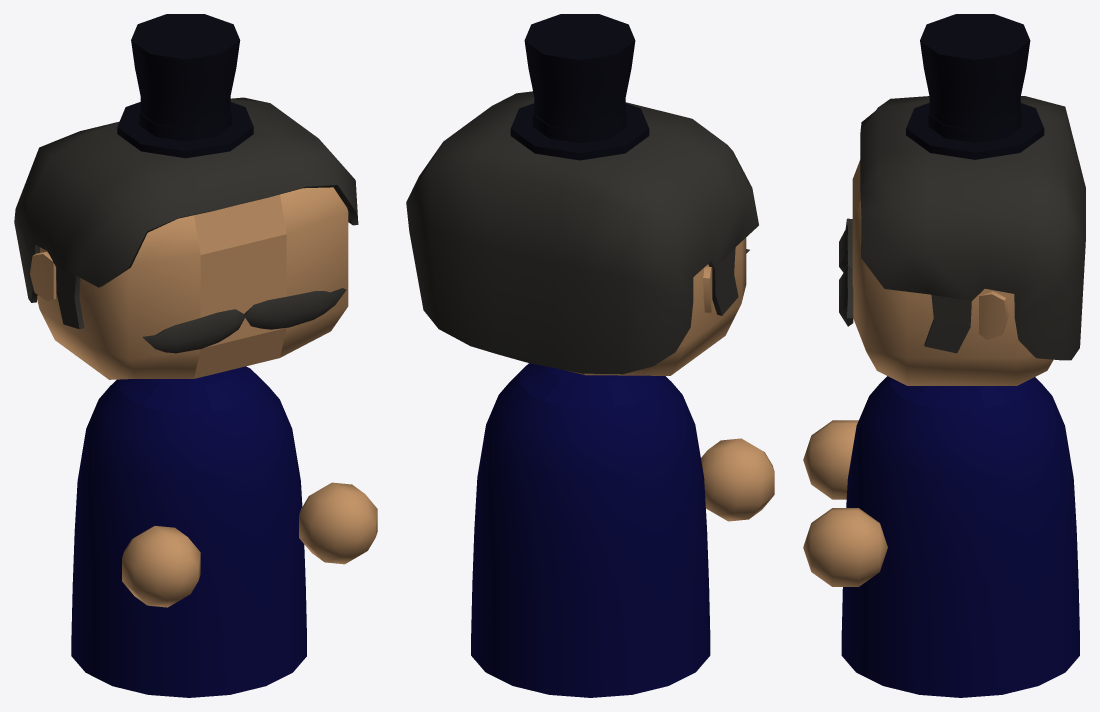
The model's file is Viejo_low.fbx.
3 views of the same model, side by side, from view 1: azimuth 30°, elevation 25°; view 2: azimuth 150°, elevation 25°; view 3: azimuth 270°, elevation 25° (orthographic).
Visible parts, largest first — view 1: Cylinder001, Box001, Plane001, Sombrero, Sphere001, Sphere002, Plane002, Oreja L; view 2: Cylinder001, Plane001, Sombrero, Sphere002, Box001; view 3: Cylinder001, Plane001, Sombrero, Box001, Sphere001, Sphere002, Plane002, Oreja R.
Boxes of the visible parts, x1=… form: Cylinder001: x1=71, y1=366, x2=306, y2=697; Box001: x1=37, y1=187, x2=348, y2=379; Plane001: x1=14, y1=97, x2=358, y2=329; Sombrero: x1=117, y1=14, x2=253, y2=158; Sphere001: x1=299, y1=482, x2=377, y2=564; Sphere002: x1=122, y1=526, x2=200, y2=607; Plane002: x1=142, y1=288, x2=346, y2=353; Oreja L: x1=30, y1=251, x2=55, y2=301; Cylinder001: x1=471, y1=363, x2=710, y2=697; Plane001: x1=406, y1=91, x2=758, y2=374; Sombrero: x1=510, y1=14, x2=649, y2=160; Sphere002: x1=701, y1=438, x2=774, y2=521; Box001: x1=565, y1=237, x2=746, y2=375; Cylinder001: x1=841, y1=376, x2=1079, y2=697; Plane001: x1=860, y1=96, x2=1085, y2=360; Sombrero: x1=906, y1=14, x2=1044, y2=159; Box001: x1=852, y1=160, x2=1053, y2=385; Sphere001: x1=803, y1=508, x2=887, y2=586; Sphere002: x1=803, y1=420, x2=858, y2=499; Plane002: x1=839, y1=218, x2=853, y2=326; Oreja R: x1=979, y1=291, x2=1008, y2=339.
Bounding box in the file's own units: 0.0487 × 0.0423 × 0.1011.
